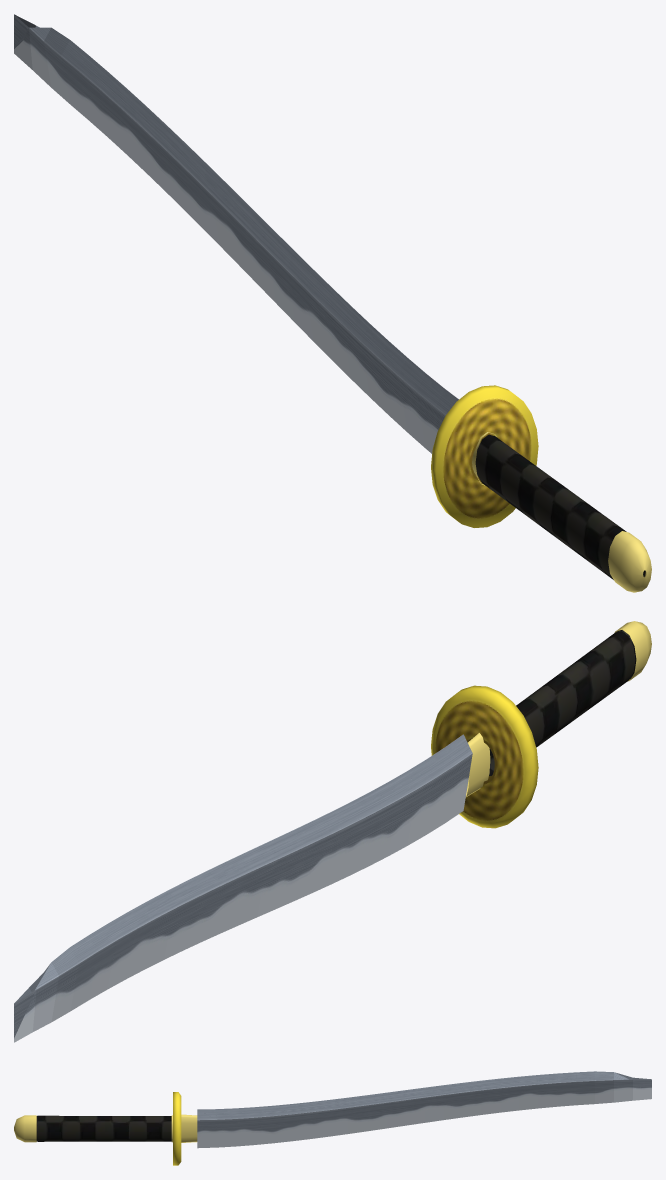
File: twin_katana.glb
3 renders of one model, top to bottom at view 1: azimuth 30°, elevation 25°; view 2: azimuth 150°, elevation 25°; view 3: azimuth 270°, elevation 25°, orthographic. The views are drawn at different scales.
Parts seen in each view (by area): view 1: main; view 2: main; view 3: main.
Part boxes in pixels (<box>): main: <box>14,14,651,592</box>; main: <box>14,621,651,1042</box>; main: <box>14,1071,651,1165</box>.
Size of the model in its own units: 0.0894 by 0.1519 by 0.954.
Materials: 4 (3 with a texture image).
